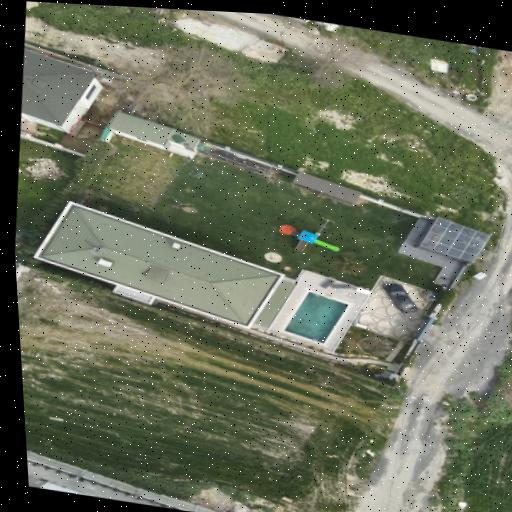car: (384, 282, 417, 311)
